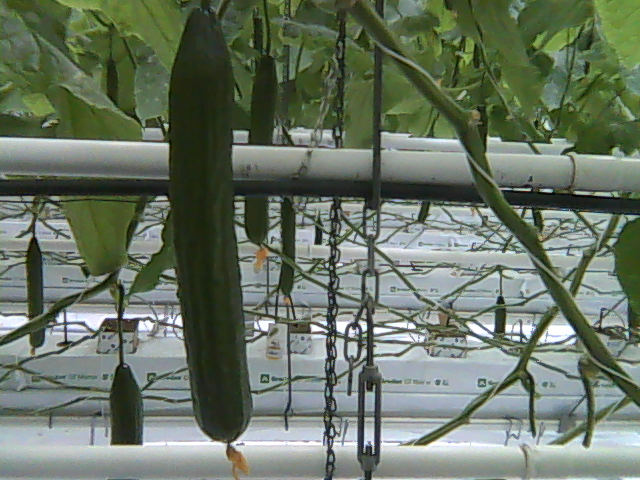concombre: (166, 1, 256, 480)
